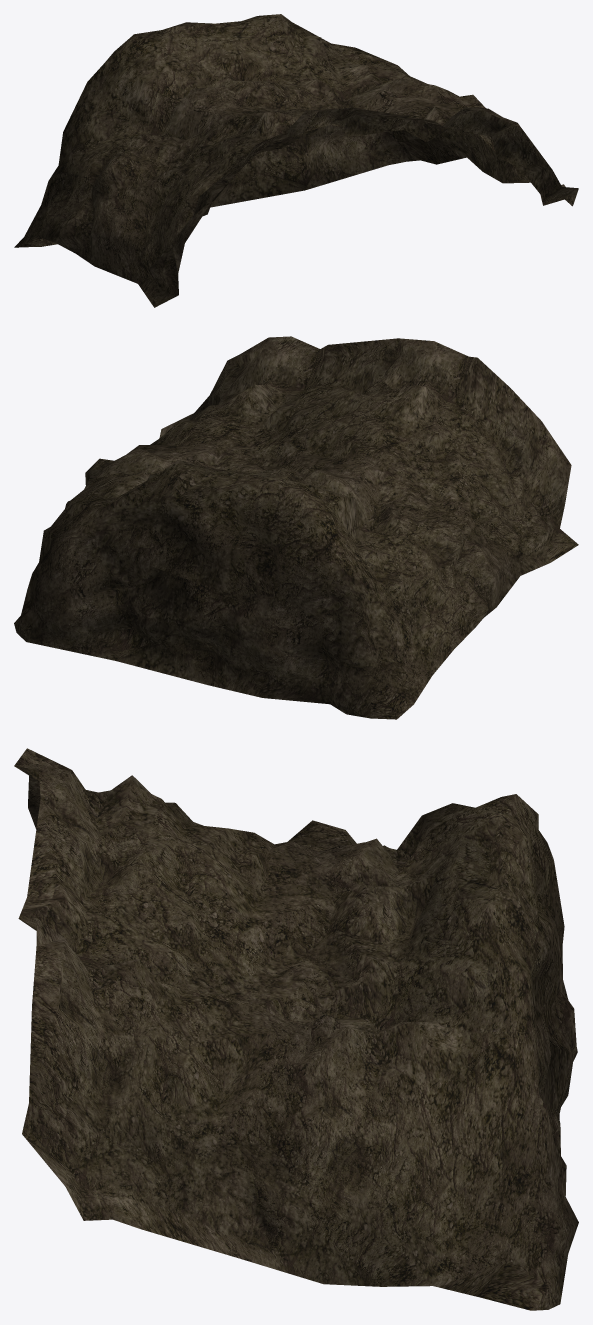
File: FO_Mud_01.fbx
The picture shows the model from 3 angles, top to bottom: view 1: azimuth 30°, elevation 25°; view 2: azimuth 150°, elevation 25°; view 3: azimuth 270°, elevation 25°; orthographic projection. The views are drawn at different scales.
Visible parts, largest first — view 1: FO_Mud_01; view 2: FO_Mud_01; view 3: FO_Mud_01.
Boxes of the visible parts, bbox=[...] form: FO_Mud_01: bbox=[14, 14, 578, 307]; FO_Mud_01: bbox=[14, 336, 578, 719]; FO_Mud_01: bbox=[14, 748, 578, 1310].
Bounding box in the file's own units: 9.15 × 4.77 × 6.72.
